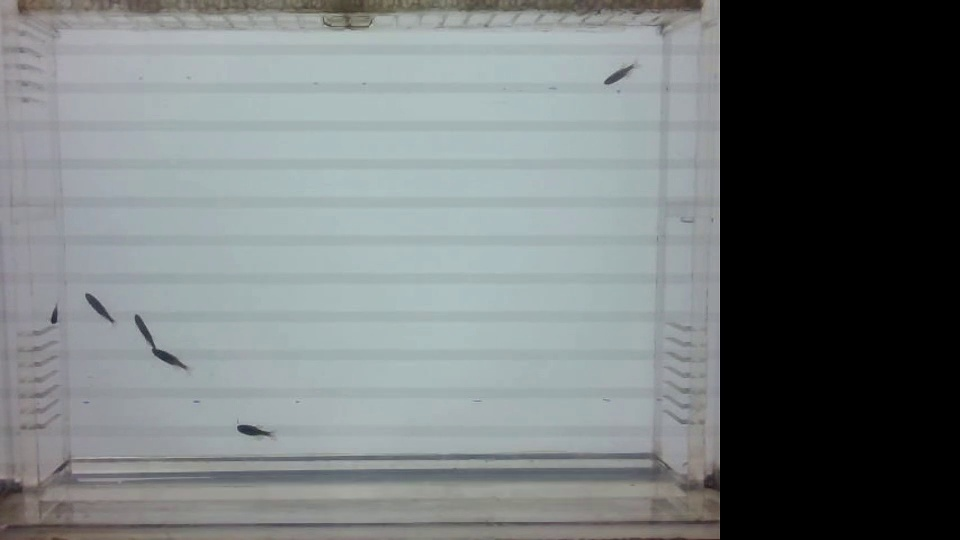fish: (148, 341, 189, 376), (80, 292, 117, 328), (601, 58, 641, 88), (36, 296, 65, 334), (132, 310, 160, 348), (230, 424, 276, 446)
